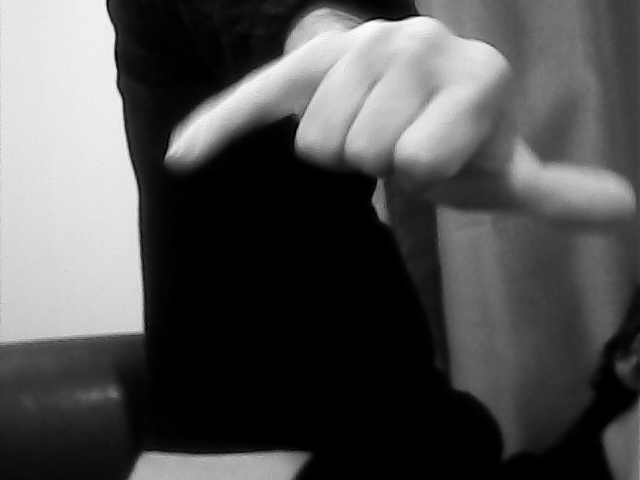aloha: (157, 12, 637, 232)
